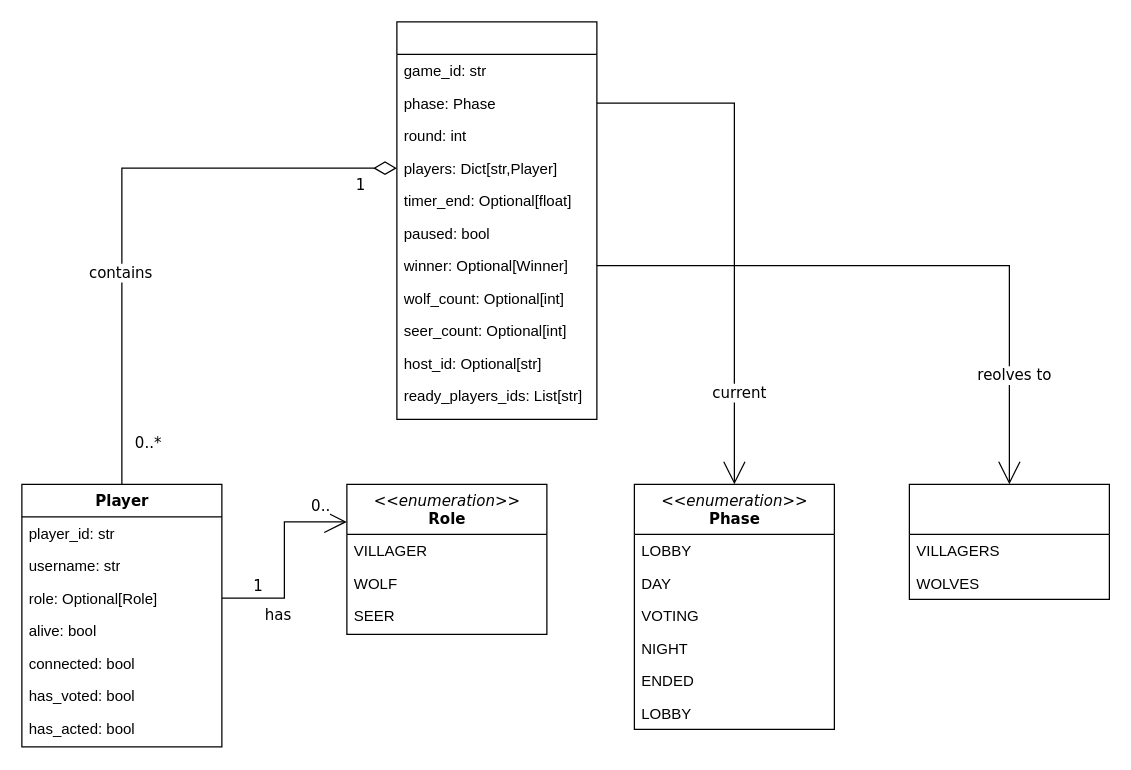
Some shapes in this 1131 by 770 pixel diagram are drawn without their labels. Each missing label, with the box of its shape:
<<enumeration>> Winner: (908, 483, 1109, 599)
GameState: (396, 21, 597, 419)
